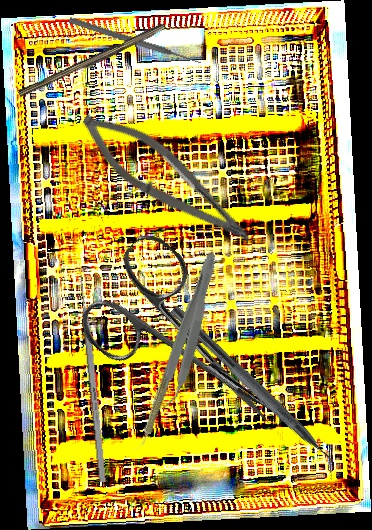Chopper: (158, 304, 348, 484)
Handpiece: (132, 331, 187, 455)
Iris Scissors: (66, 226, 316, 465)
Micro Scissor: (68, 100, 267, 256)
Pusher: (67, 15, 203, 68), (76, 263, 107, 483)
Scalpel Handle: (17, 20, 168, 102)
Tissue Forceps: (151, 249, 223, 413)
